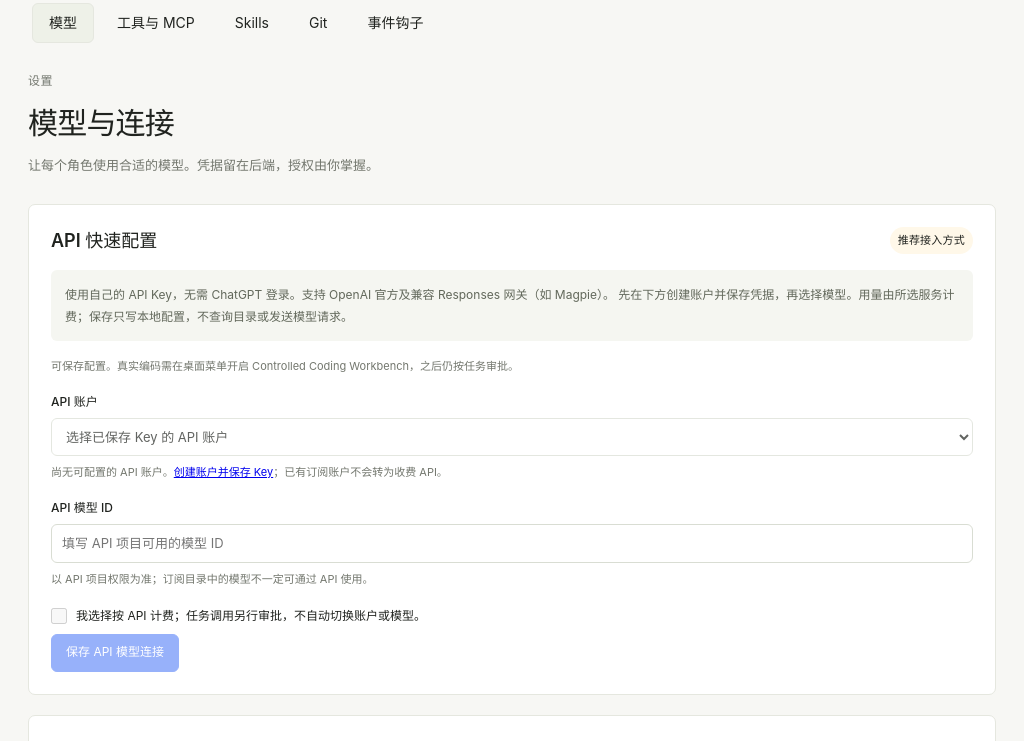
Scenario: distinguishes controlled callable built-ins from closed MCP execution
Click the button "工具与 MCP".
click(156, 23)  # box [100,3,212,43]
(page scrolled)
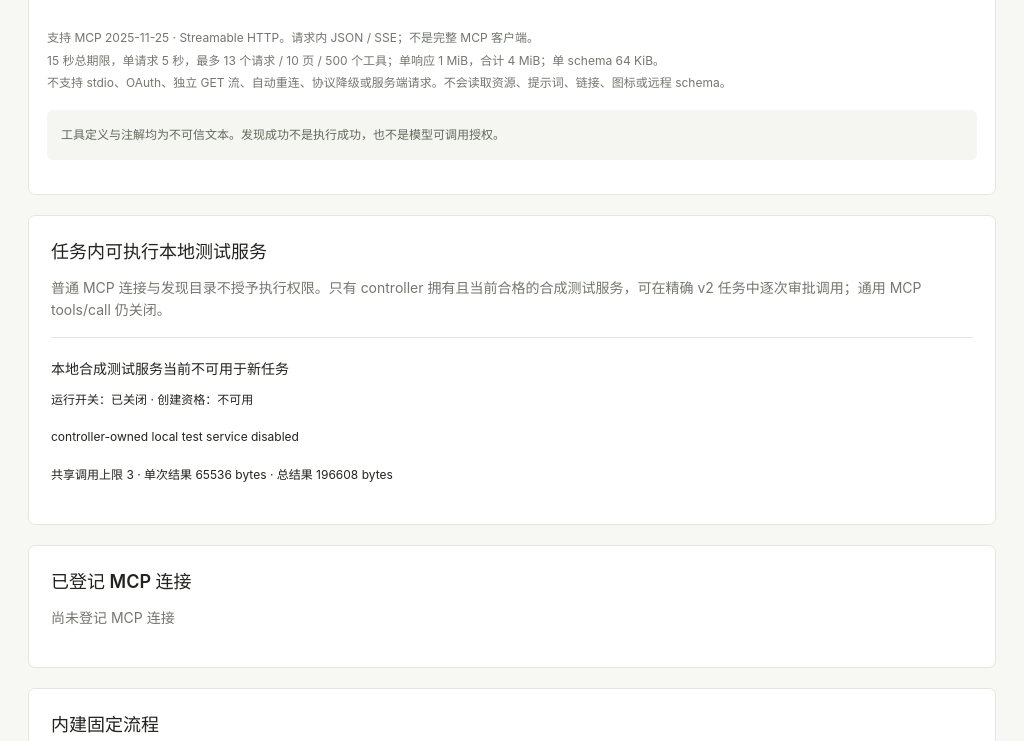
Result: the text "通用 MCP tools/call 仍关闭" is shown at [51,279,922,318]
Result: the heading "本地合成测试服务当前不可用于新任务" is shown at [51,360,289,377]
